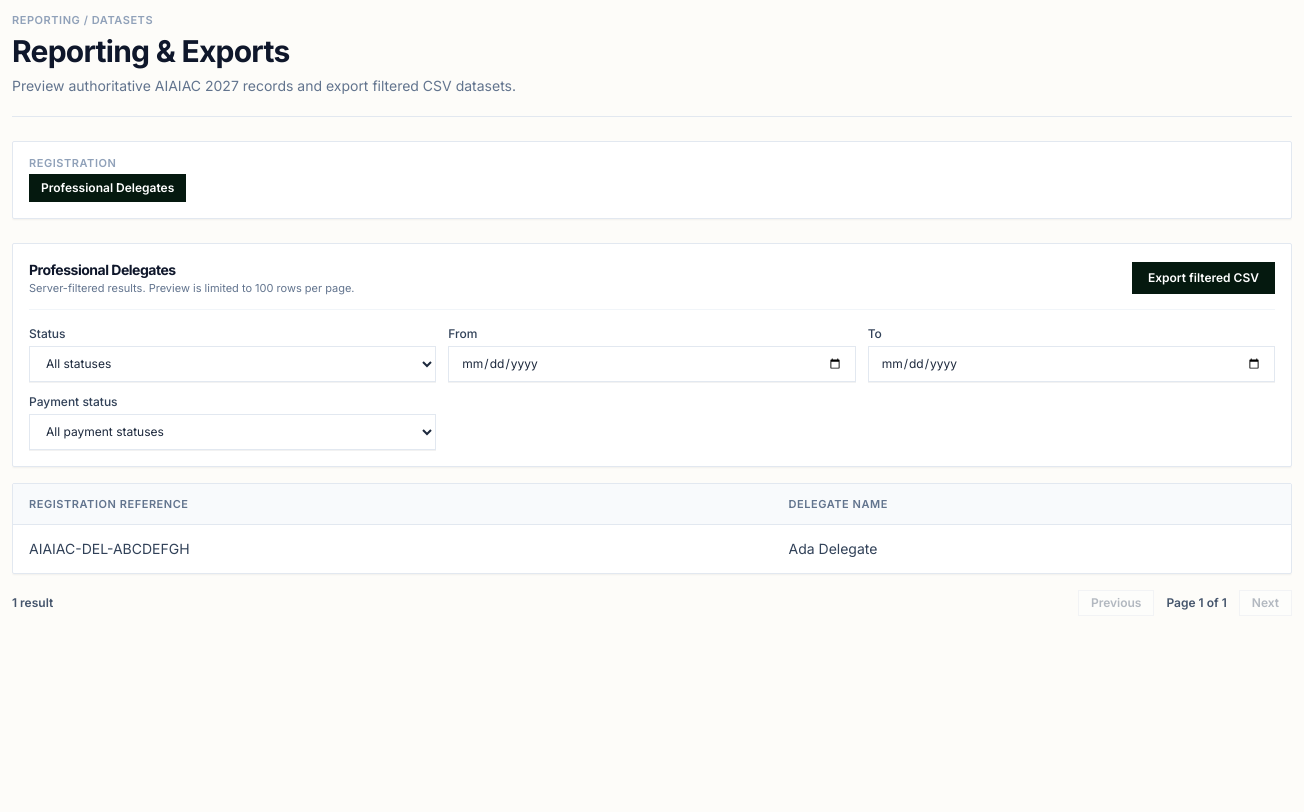
Test case: Reporting & Exports frontend › exports filtered CSV with the protected Admin header
The width and height of the screenshot is (1304, 812).
Expected: the text "AIAIAC-DEL-ABCDEFGH" is shown, [13, 524, 772, 573]
Click the button "Export filtered CSV" at (1204, 278), box [1132, 262, 1275, 294]
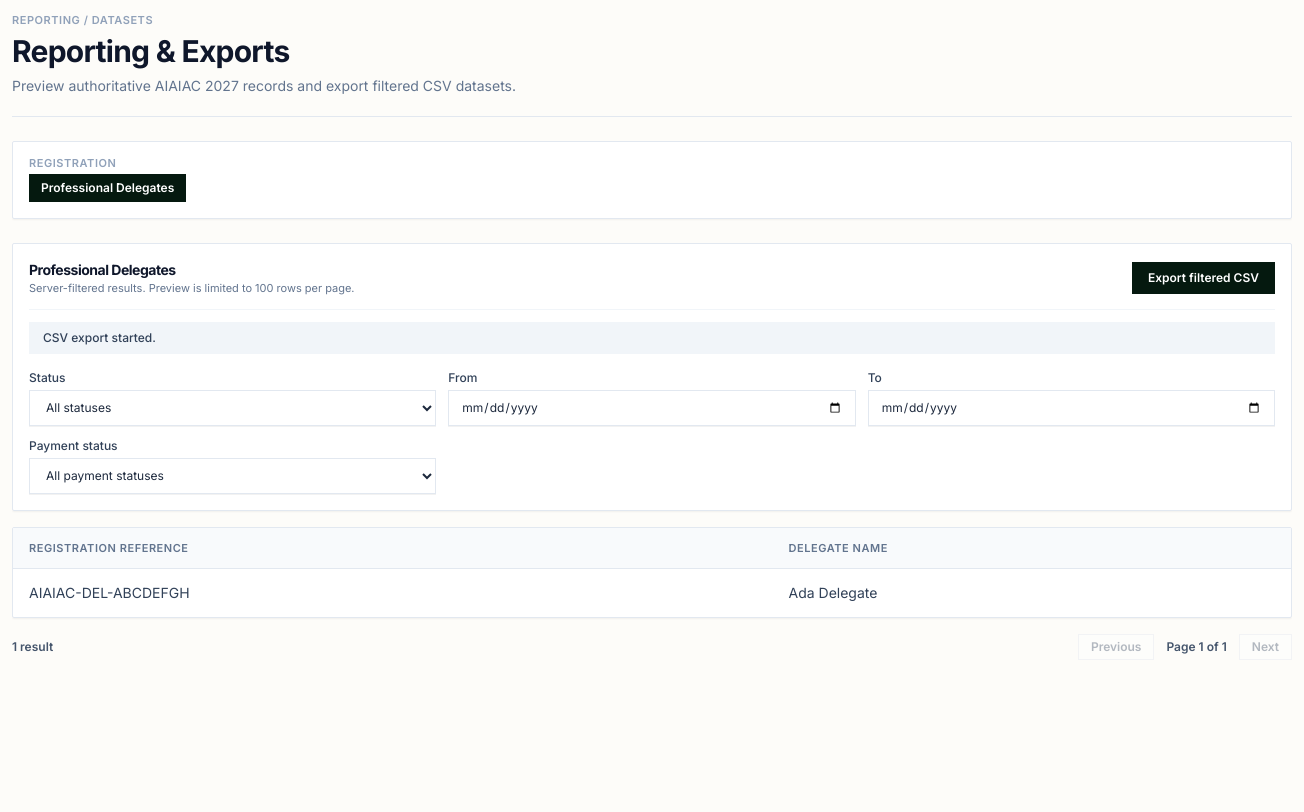
Expected: the text "CSV export started." is shown, [29, 322, 1275, 354]
